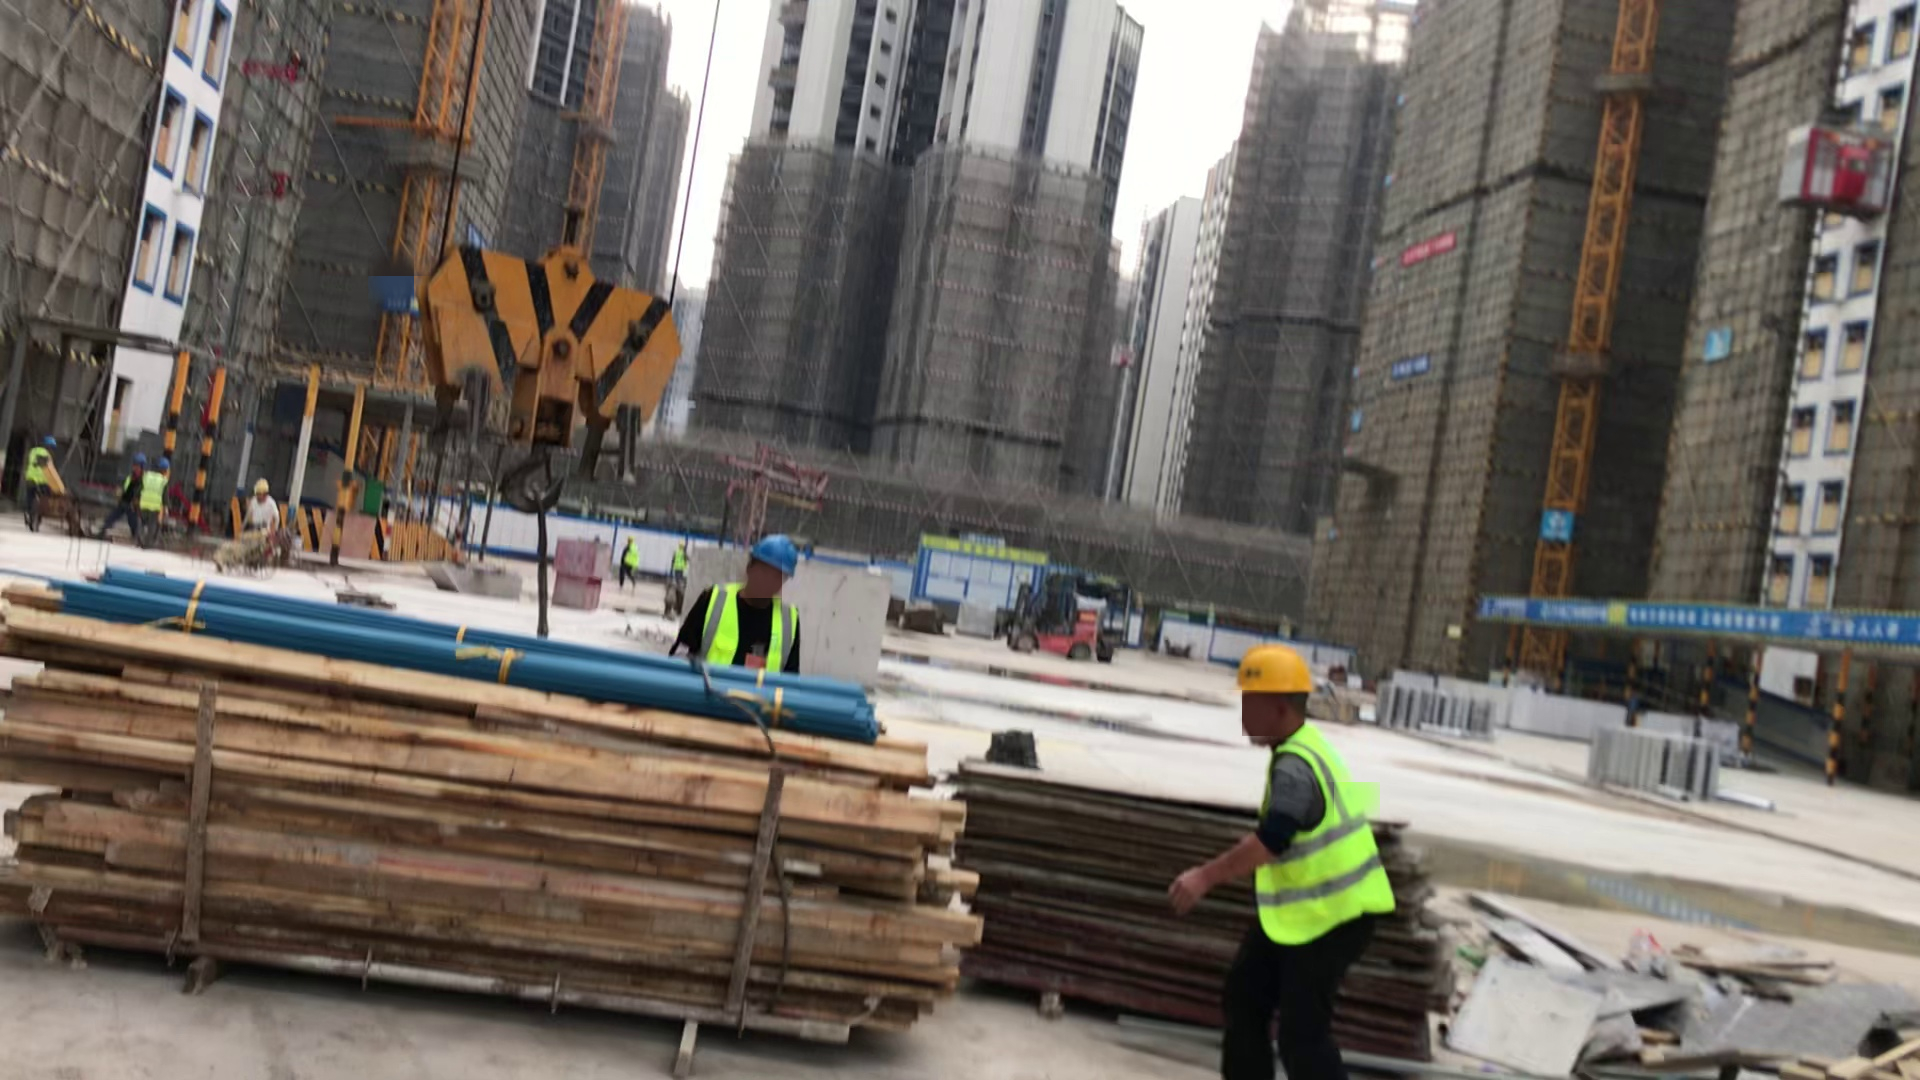board: (942, 759, 1444, 1072)
helmet: (1229, 646, 1322, 702), (757, 524, 802, 582), (143, 453, 171, 478), (251, 478, 275, 502)
hook: (430, 196, 683, 482)
hopper: (429, 553, 522, 607)
person: (1200, 637, 1365, 1080), (701, 513, 810, 717), (142, 454, 175, 549), (18, 434, 51, 515), (250, 477, 285, 554), (615, 530, 638, 587), (32, 427, 65, 452), (670, 538, 684, 592)
slogan: (1507, 590, 1913, 649)
vest: (1246, 728, 1388, 920), (712, 578, 808, 680), (142, 479, 165, 510), (674, 548, 688, 576), (623, 545, 637, 562)
wood: (15, 604, 903, 1028)
